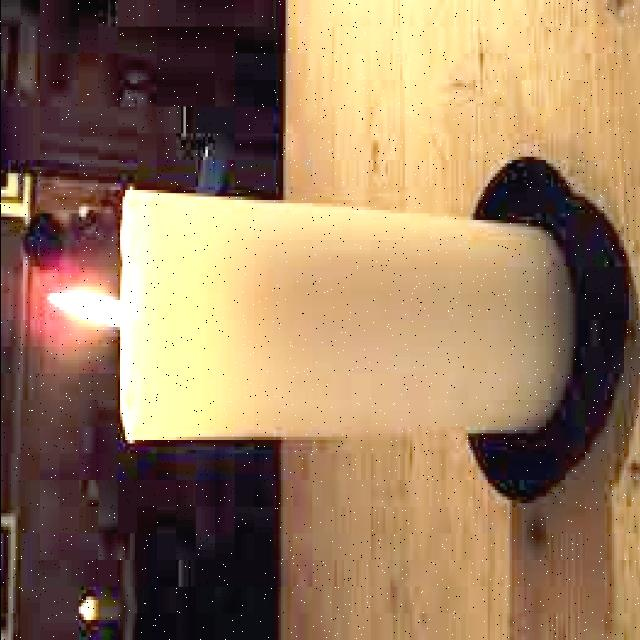api: (41, 278, 123, 334)
